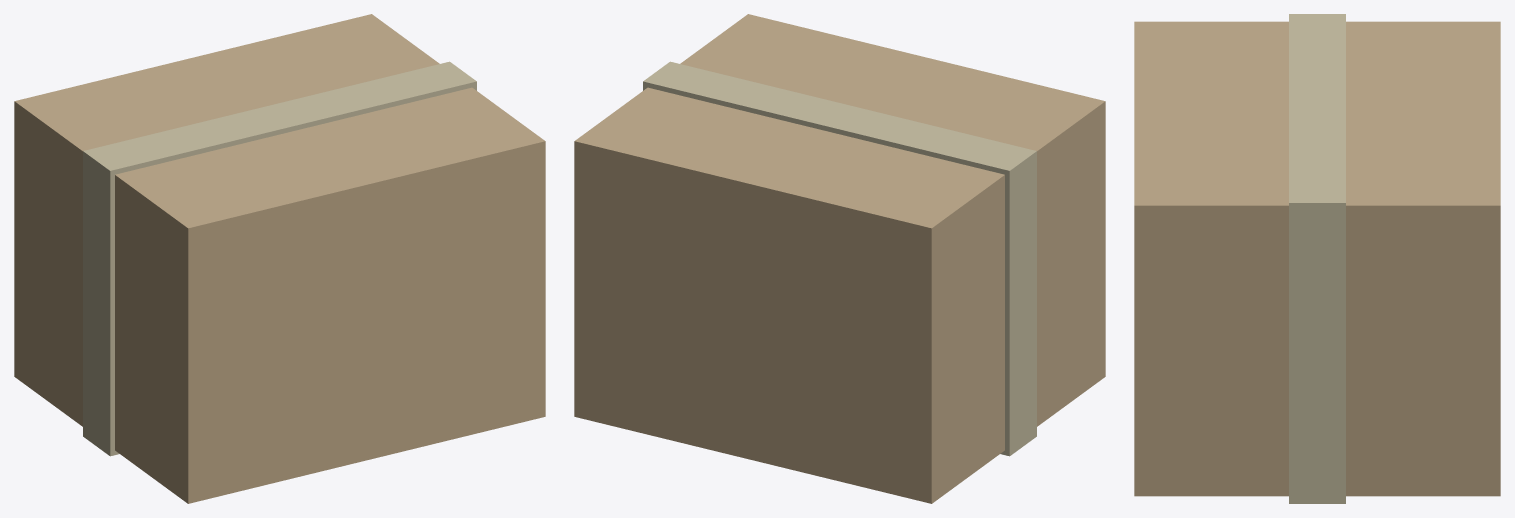
The model's file is small.glb.
3 views of the same model, side by side, from view 1: azimuth 30°, elevation 25°; view 2: azimuth 150°, elevation 25°; view 3: azimuth 270°, elevation 25° (orthographic). The views are drawn at different scales.
Parts seen in each view (by area): view 1: small2; view 2: small2; view 3: small2.
Part boxes in pixels (left/top/right/bottom): small2: left=14, top=14, right=545, bottom=503; small2: left=574, top=14, right=1105, bottom=503; small2: left=1134, top=14, right=1500, bottom=503.
Bounding box in the file's own units: 0.39 × 0.29 × 0.32.
